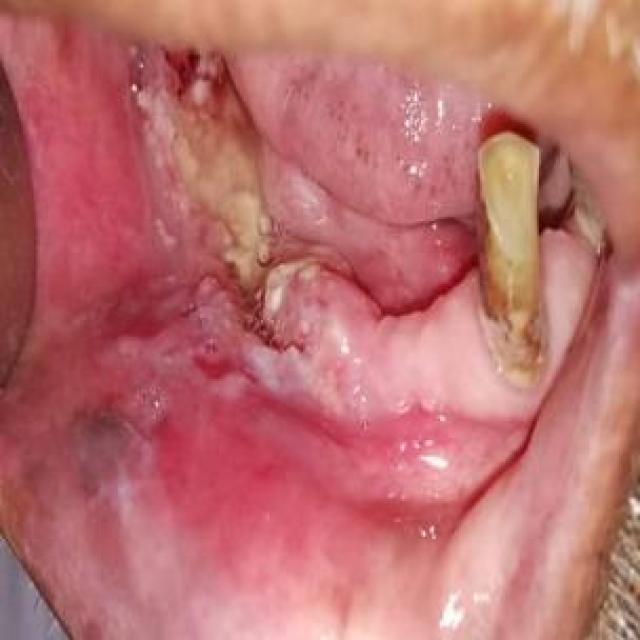cancer-detection: (54, 37, 386, 512)
processing_area: (1, 4, 628, 638)
